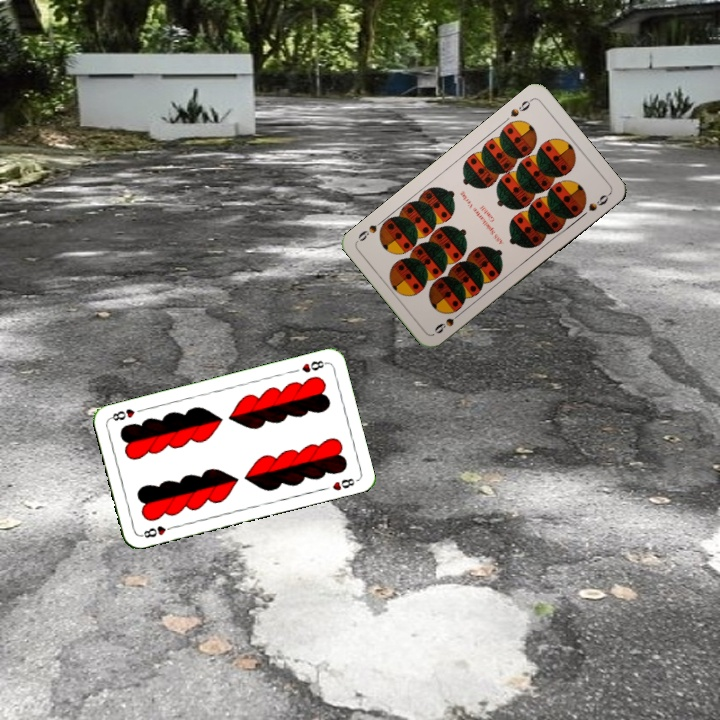H8: (137, 522, 177, 540), (297, 356, 329, 375)
S9: (430, 307, 465, 336), (506, 95, 535, 120)
